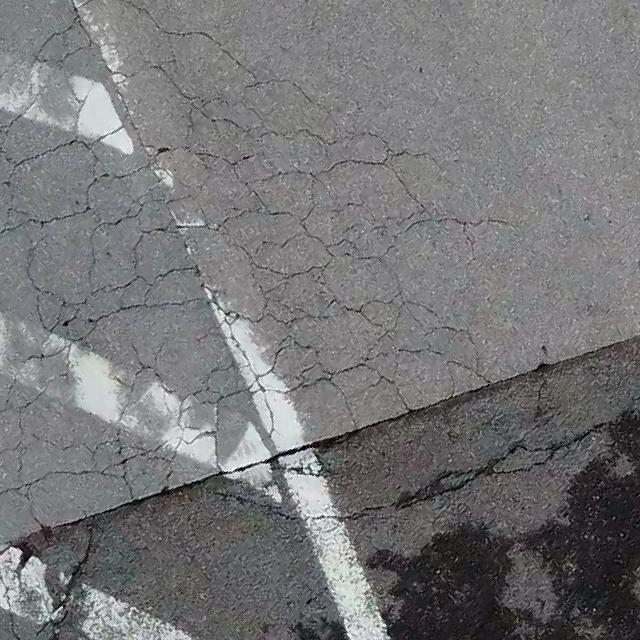GRIETA: (558, 333, 639, 365)
PIEL DE COCODRILO: (0, 0, 613, 639)
